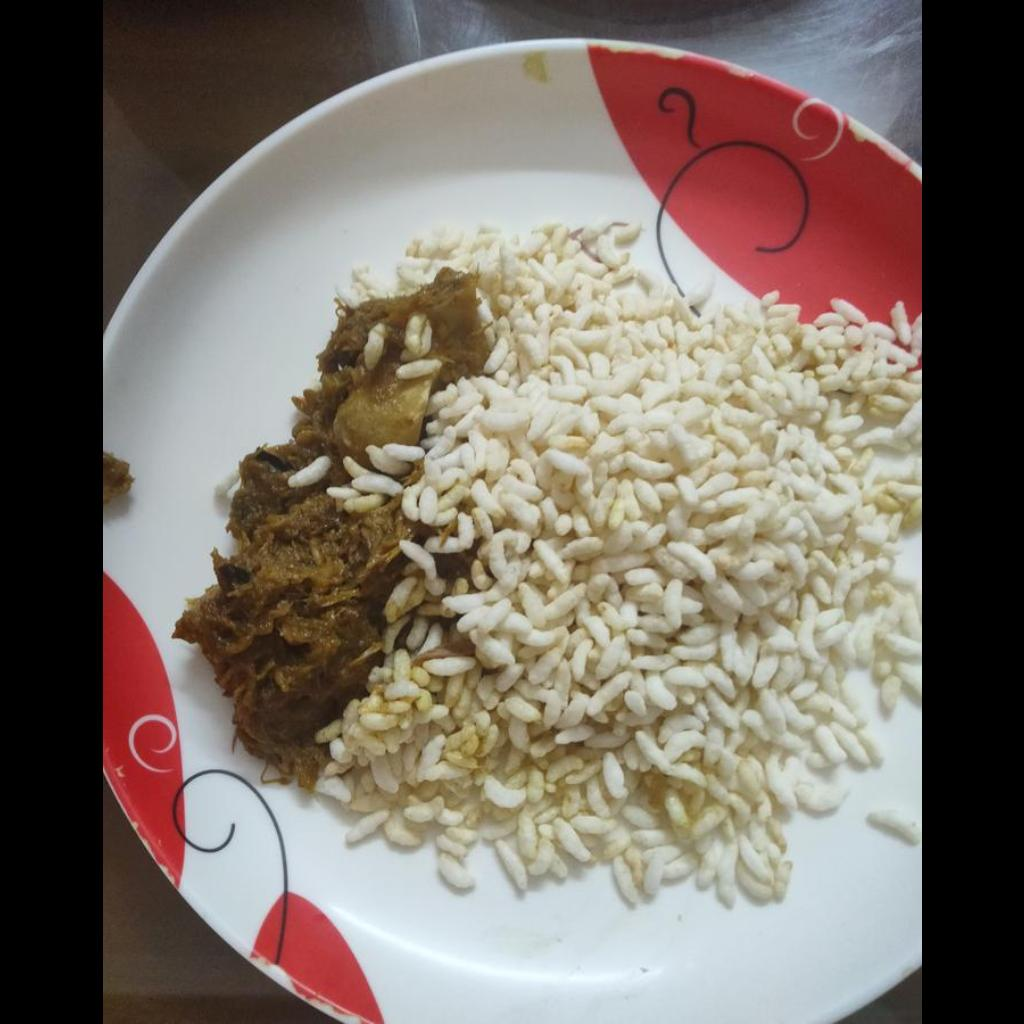beef: (173, 272, 485, 785)
puffed-rice: (318, 204, 920, 919)
